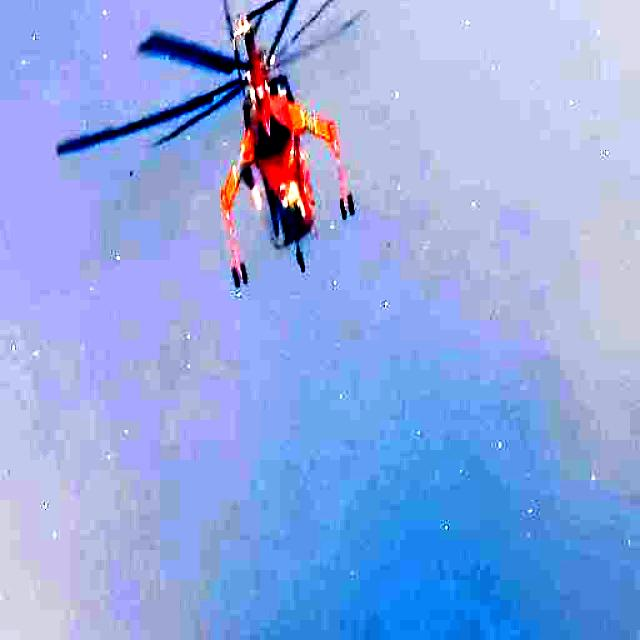drone: (54, 0, 439, 298)
